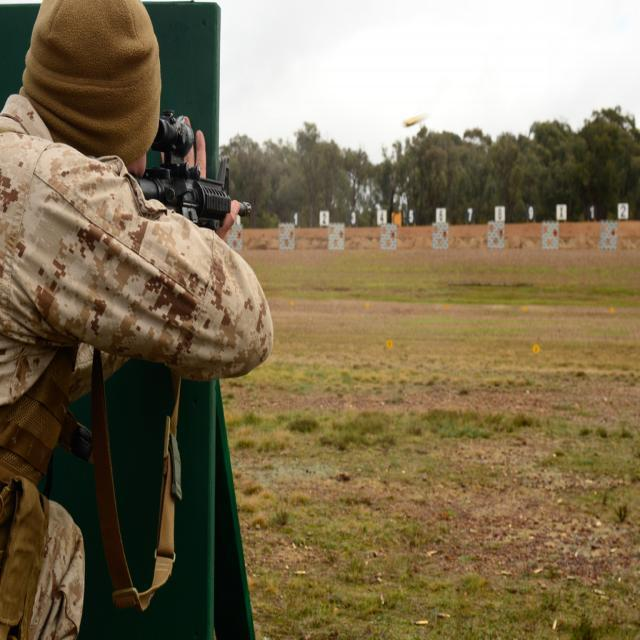weapon: (91, 107, 254, 617), (102, 117, 242, 232)
